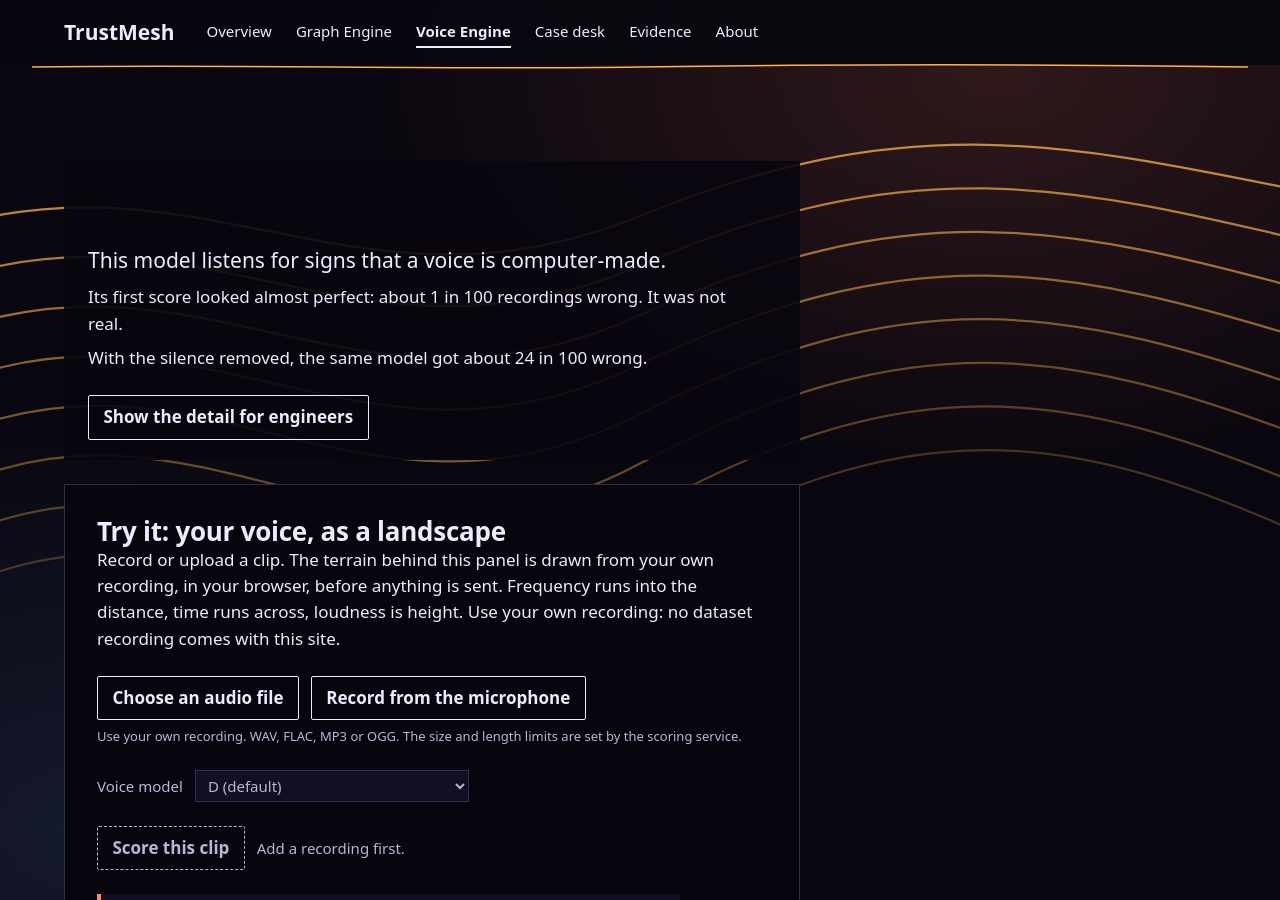
Test: the voice page › shows the F2 wording and the engineer numbers only after F2 is chosen
Select "F2 (trained on compressed audio)" in the dropdown with test id "voice-model-select". click: (332, 786)
box: [195,770,469,802]
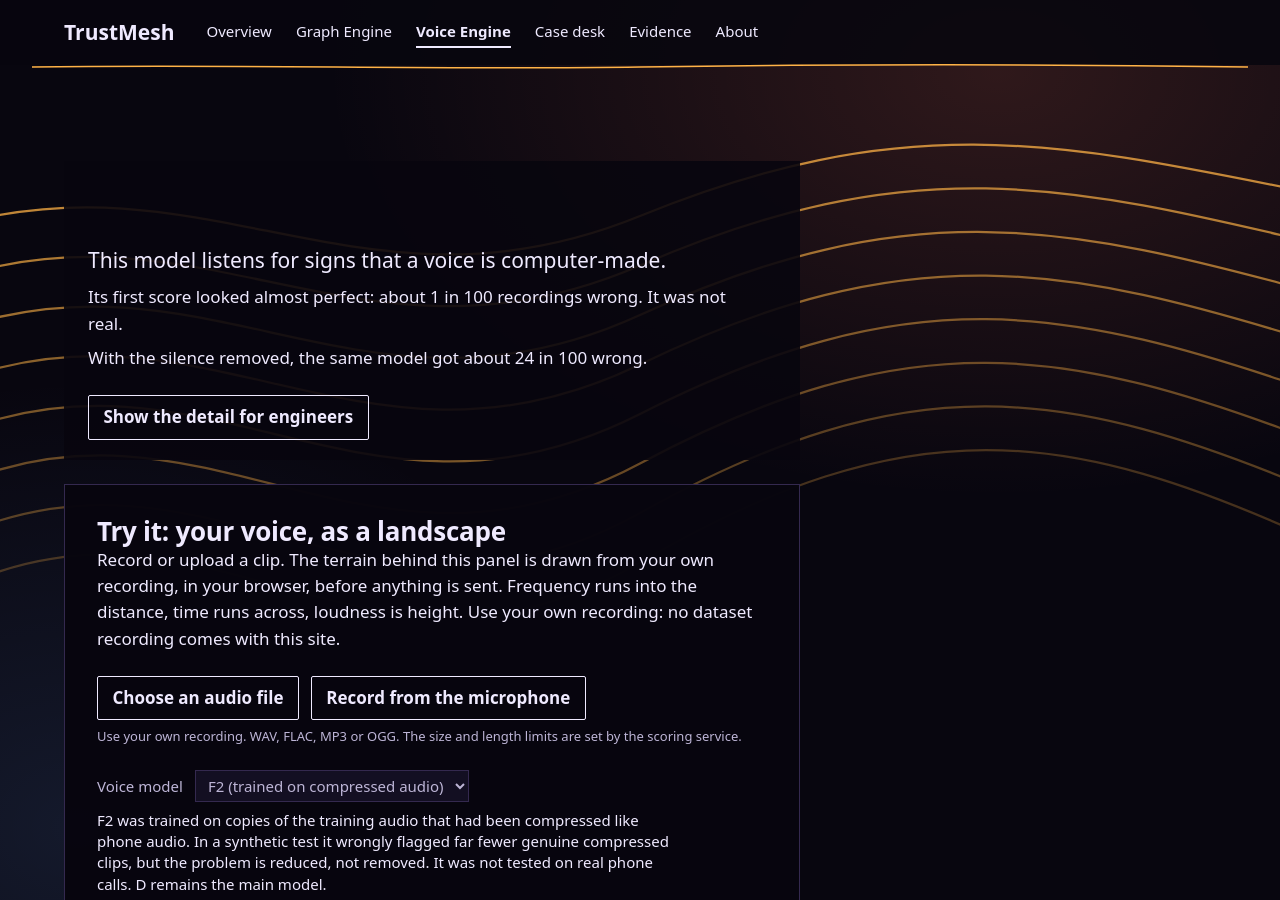
Expected: the text with test id "f2-wording" shows "F2 was trained on copies of the training audio that had been compressed like phone audio. In a synthetic test it wrongly flagged far fewer genuine compressed cl", [97,810,669,894]
Expected: the text with test id "f2-wording" shows "reduced, not removed", [97,810,669,894]
Expected: the text with test id "f2-wording" shows "not tested on real phone calls", [97,810,669,894]
Click the button "Show the detail for engineers". click: (228, 417)
box: [88,395,369,440]
(page scrolled)
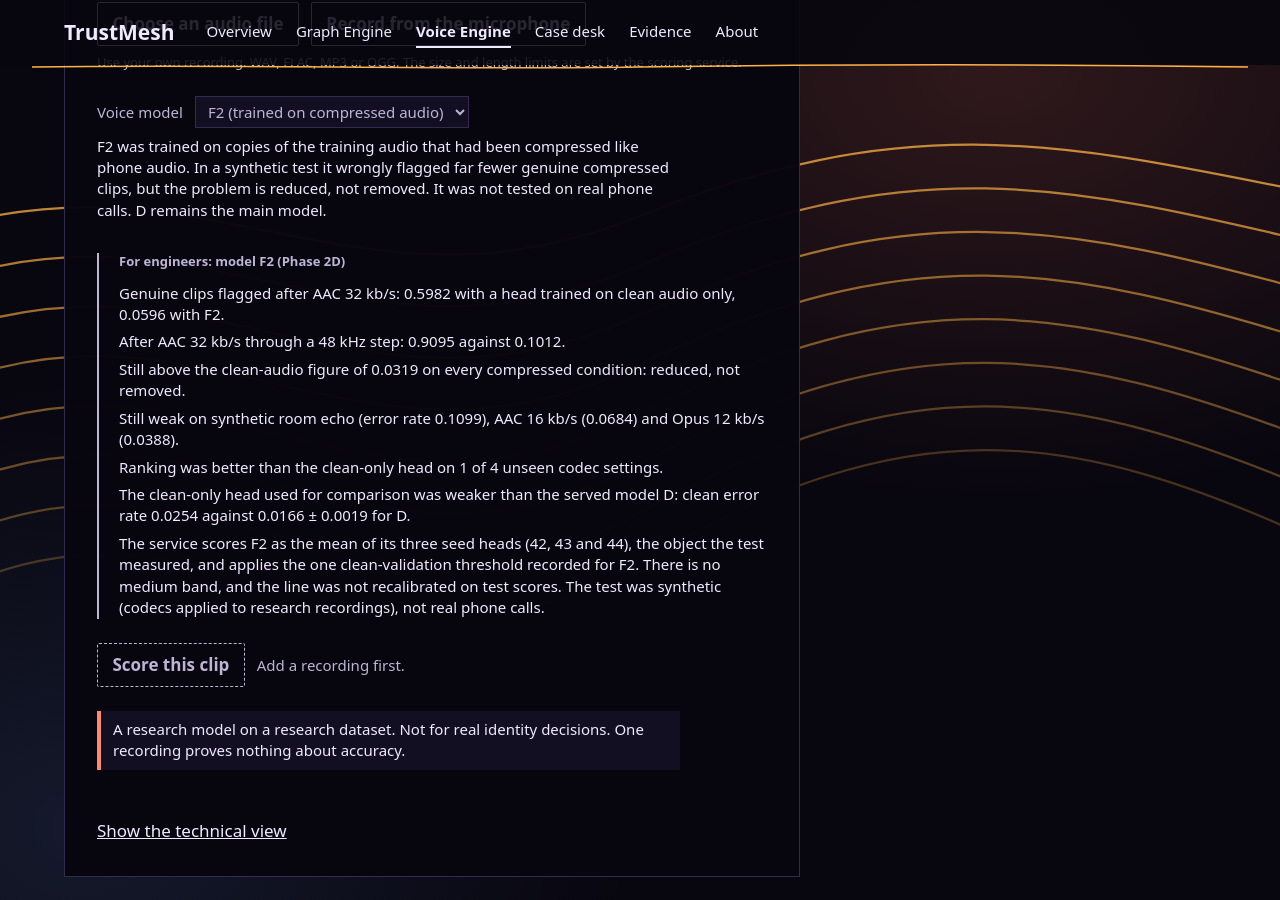
Expected: the list with test id "f2-numbers" shows "0.5982", [119,283,767,618]
Expected: the list with test id "f2-numbers" shows "0.0596", [119,283,767,618]
Expected: the list with test id "f2-numbers" shows "0.9095", [119,283,767,618]
